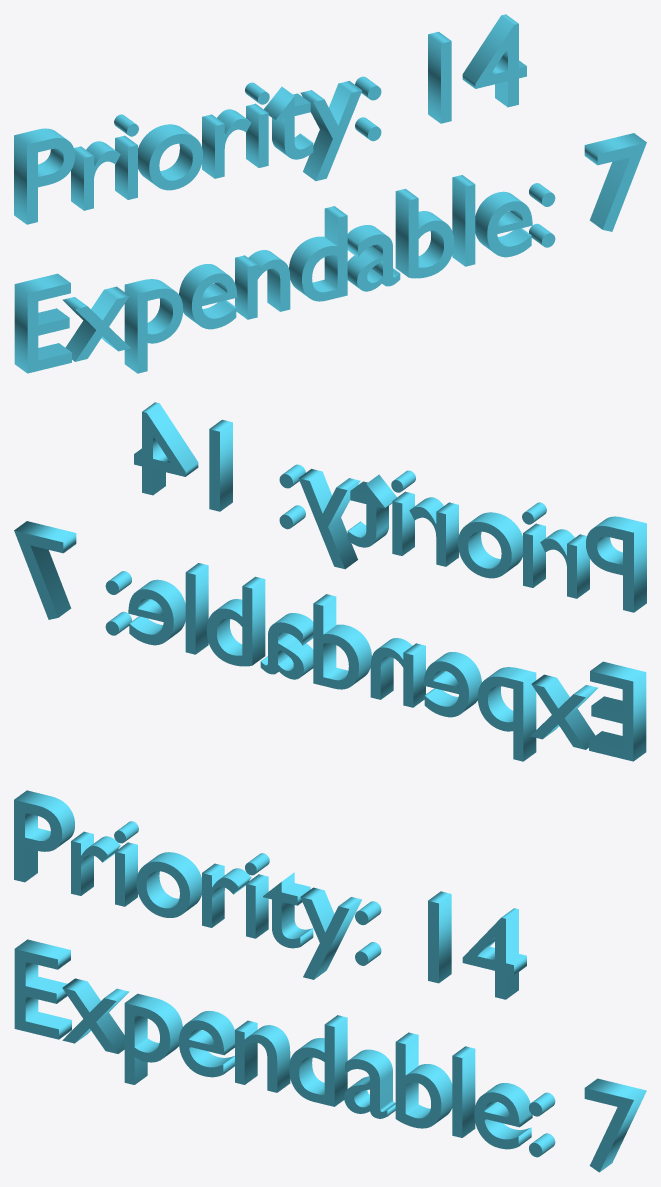
The model's file is console_test_013_result.fbx.
3 views of the same model, one above another, from view 1: azimuth 30°, elevation 25°; view 2: azimuth 150°, elevation 25°; view 3: azimuth 330°, elevation 25° (orthographic).
Visible parts, largest first — view 1: Txt_Test_01.049, Txt_Test_01.046; view 2: Txt_Test_01.049, Txt_Test_01.046; view 3: Txt_Test_01.049, Txt_Test_01.046.
Part boxes in pixels (x1,y1,x2,y2): Txt_Test_01.049: [14, 133, 646, 373]; Txt_Test_01.046: [14, 14, 526, 224]; Txt_Test_01.049: [14, 521, 646, 761]; Txt_Test_01.046: [134, 402, 646, 612]; Txt_Test_01.049: [14, 939, 646, 1172]; Txt_Test_01.046: [14, 790, 526, 999].
Bounding box in the file's own units: 0.746 × 0.2955 × 0.027.
